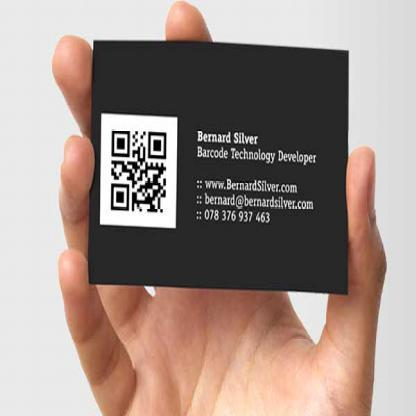qr_code: (110, 130, 168, 213)
